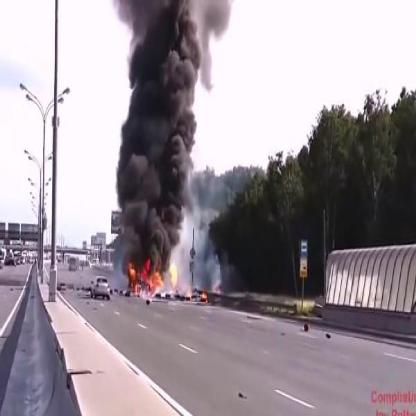fire: (125, 256, 180, 300), (185, 287, 207, 302)
